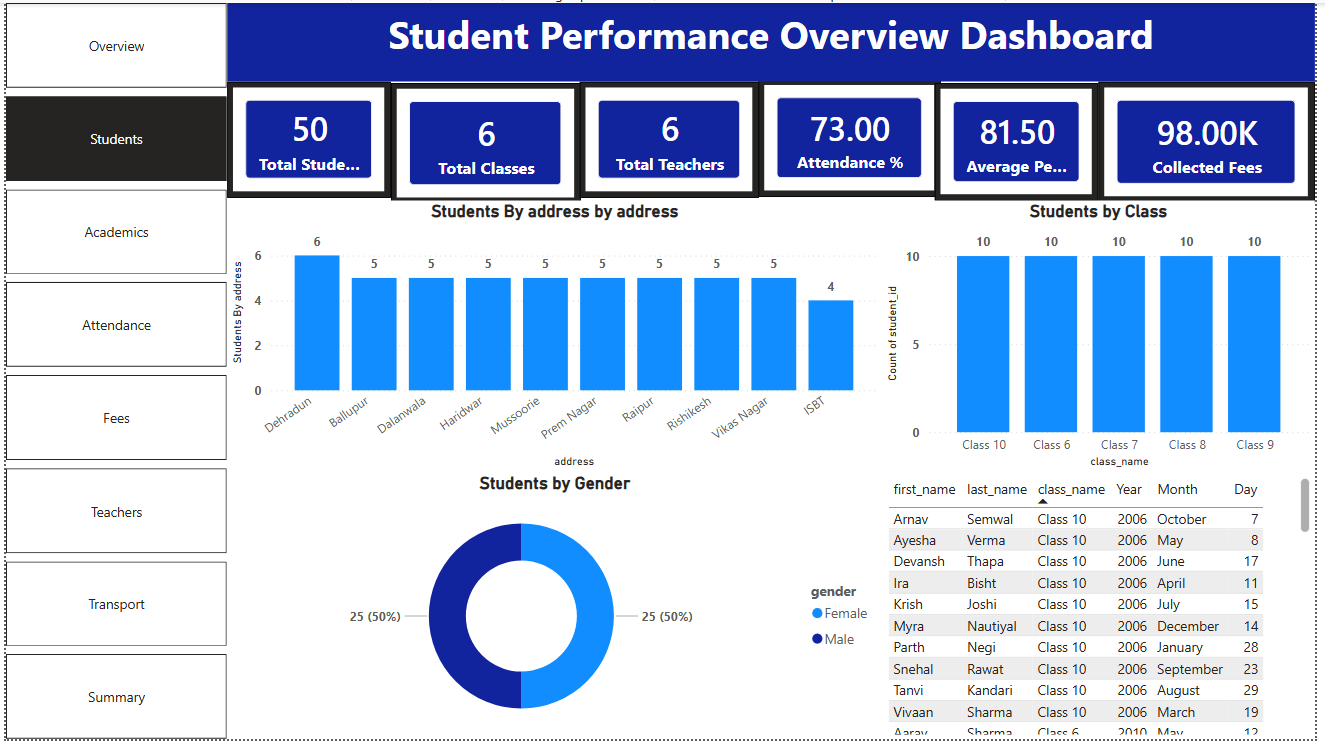

The page's visual inventory and layout, read from the dashboard file:
{"tool":"powerbi","page":{"name":"Students","canvas":[1280,720],"ordinal":1},"visuals":[{"type":"pageNavigator","box":[0,0,216.4,720.2],"z":0},{"type":"cardVisual","fields":{"Data":["CountNonNull(students.student_id)"]},"box":[216.5,83.2,160.5,114.2],"z":1000},{"type":"cardVisual","fields":{"Data":["CountNonNull(teachers.teacher_id)"]},"box":[377,78.6,185.2,118.9],"z":2000},{"type":"cardVisual","fields":{"Data":["CountNonNull(teachers.teacher_id)"]},"box":[562.3,83.2,174.4,114.2],"z":3000},{"type":"cardVisual","fields":{"Data":["attendance.Attendance %"]},"box":[736.7,81.7,177.5,114.2],"z":4000},{"type":"cardVisual","fields":{"Data":["marks.Average Percentage"]},"box":[914.2,81.7,160.5,114.2],"z":5000},{"type":"cardVisual","fields":{"Data":["fees.Collected Fees"]},"box":[1062.4,78.6,169.8,117.3],"z":6000},{"type":"cardVisual","fields":{"Data":["fees.Pending Fees"]},"box":[1098.2,80.1,182.2,118.9],"z":7000},{"type":"columnChart","fields":{"Category":["students.address"],"Y":["CountNonNull(students.student_id)"]},"box":[216.4,192.7,640.8,266.7],"z":8000},{"type":"columnChart","title":"Students by Class","fields":{"Category":["classes.class_name"],"Y":["CountNonNull(students.student_id)"]},"box":[857.2,192.7,423,266.7],"z":9000},{"type":"donutChart","title":"Students by Gender","fields":{"Category":["students.gender"],"Y":["CountNonNull(students.student_id)"]},"box":[216.4,459.3,640.8,261.1],"z":10000},{"type":"tableEx","title":"Students by DOB","fields":{"Values":["students.first_name","students.last_name","classes.class_name","students.dob.Variation.Date Hierarchy.Year","students.dob.Variation.Date Hierarchy.Month","students.dob.Variation.Date Hierarchy.Day"]},"box":[857.2,459.3,423,261.1],"z":11000},{"type":"textbox","box":[216.1,0,1063.9,77],"z":12000}]}

Visuals, with their boxes on the page's 1280x720 design canvas (x1, y1, x2, y2). These are canvas units, not pixel positions in the 1325x742 screenshot, which may show the page scaled, cropped or inside an application window:
pageNavigator: {"left": 0, "top": 0, "right": 216, "bottom": 720}
cardVisual - CountNonNull(students.student_id): {"left": 216, "top": 83, "right": 377, "bottom": 197}
cardVisual - CountNonNull(teachers.teacher_id): {"left": 377, "top": 79, "right": 562, "bottom": 198}
cardVisual - CountNonNull(teachers.teacher_id): {"left": 562, "top": 83, "right": 737, "bottom": 197}
cardVisual - attendance.Attendance %: {"left": 737, "top": 82, "right": 914, "bottom": 196}
cardVisual - marks.Average Percentage: {"left": 914, "top": 82, "right": 1075, "bottom": 196}
cardVisual - fees.Collected Fees: {"left": 1062, "top": 79, "right": 1232, "bottom": 196}
cardVisual - fees.Pending Fees: {"left": 1098, "top": 80, "right": 1280, "bottom": 199}
columnChart - students.address x CountNonNull(students.student_id): {"left": 216, "top": 193, "right": 857, "bottom": 459}
"Students by Class" columnChart: {"left": 857, "top": 193, "right": 1280, "bottom": 459}
"Students by Gender" donutChart: {"left": 216, "top": 459, "right": 857, "bottom": 720}
"Students by DOB" tableEx: {"left": 857, "top": 459, "right": 1280, "bottom": 720}
textbox: {"left": 216, "top": 0, "right": 1280, "bottom": 77}
